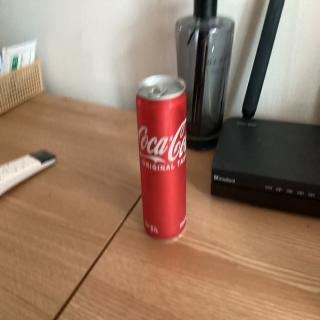cocacola: (134, 69, 192, 249)
